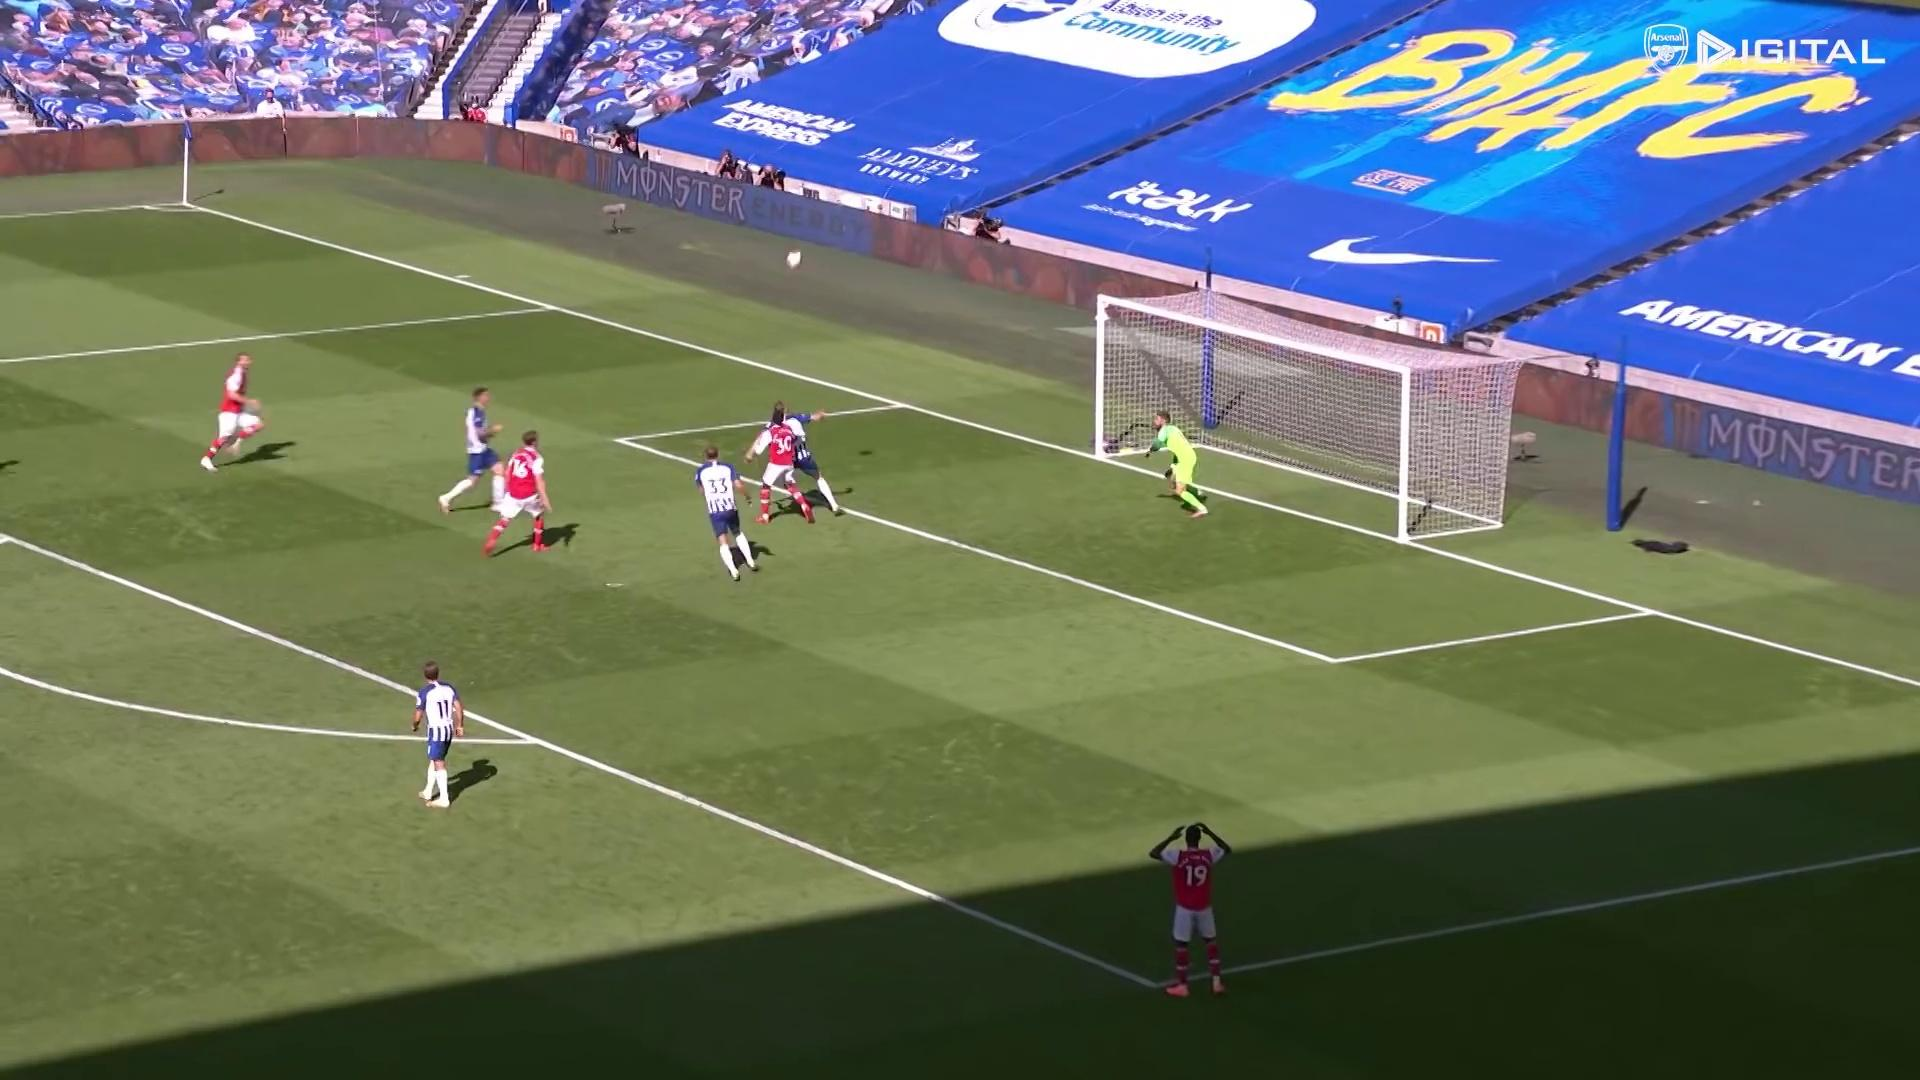ball: (781, 248, 807, 274)
goalkeeper: (1148, 410, 1215, 522)
player: (1150, 818, 1239, 1003), (751, 404, 850, 530), (483, 427, 574, 559), (404, 659, 472, 815), (694, 440, 766, 580), (439, 384, 512, 520), (745, 409, 817, 525), (201, 348, 265, 474)
